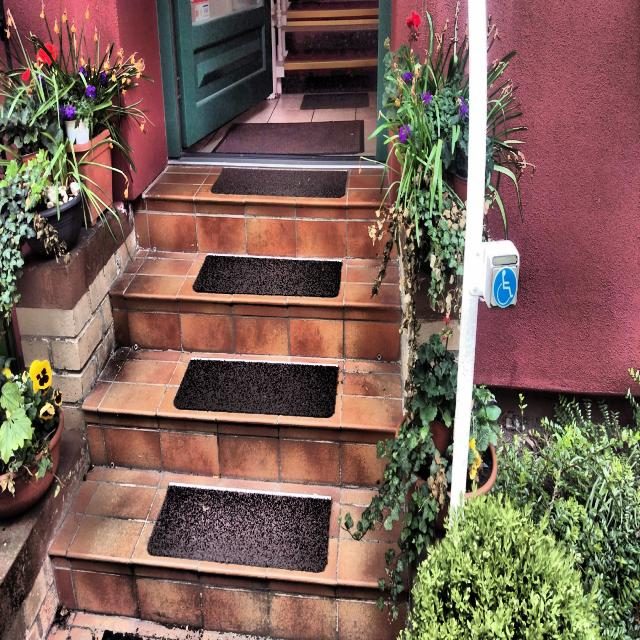escada: (34, 169, 407, 640)
